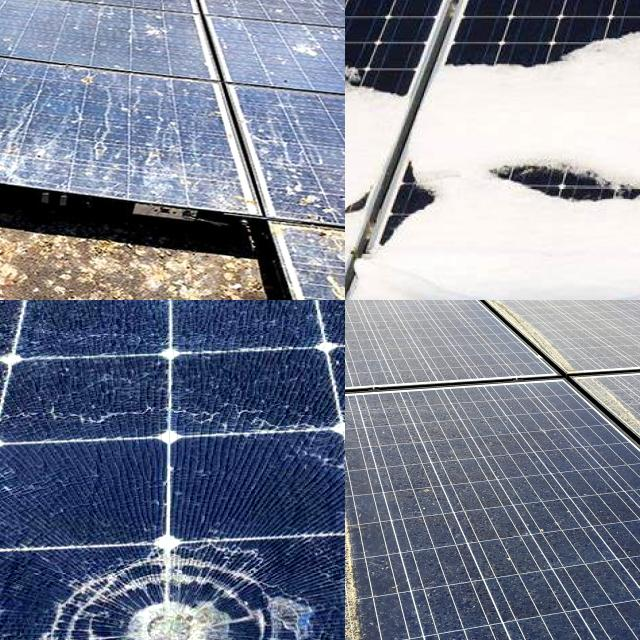bird: (291, 223, 345, 293), (126, 134, 194, 186), (276, 174, 343, 220), (118, 12, 194, 50), (0, 54, 47, 94), (292, 33, 340, 69), (0, 130, 43, 170), (0, 105, 25, 158), (74, 68, 122, 95), (0, 117, 49, 143), (0, 35, 36, 70), (0, 78, 43, 104)
dust: (387, 534, 625, 640), (352, 416, 614, 505), (345, 300, 453, 392), (345, 423, 357, 640)
hotspot: (26, 537, 291, 640)
panel: (419, 23, 640, 112), (345, 39, 489, 116), (481, 151, 640, 217), (345, 170, 448, 255), (345, 140, 423, 240), (514, 0, 640, 54), (355, 0, 487, 45), (345, 0, 436, 43), (345, 79, 380, 168), (345, 0, 402, 52), (345, 159, 374, 244), (345, 0, 401, 37), (345, 0, 384, 28)
